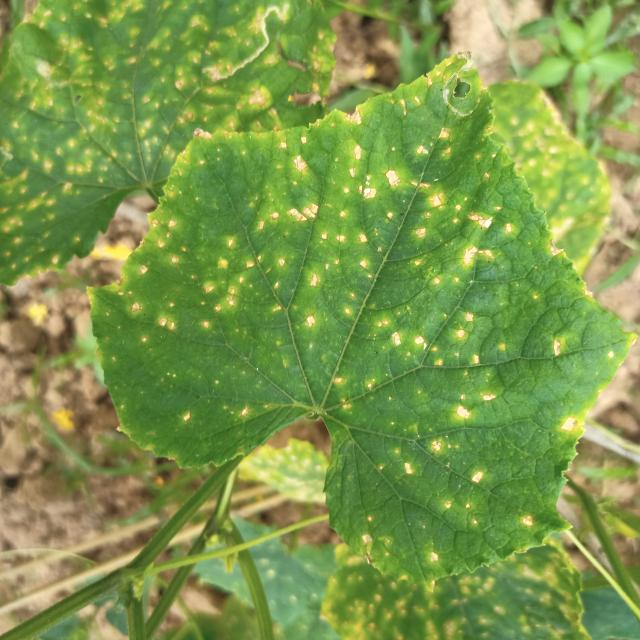disease_cucumber: (112, 120, 600, 433), (352, 434, 489, 567), (520, 508, 537, 532)
